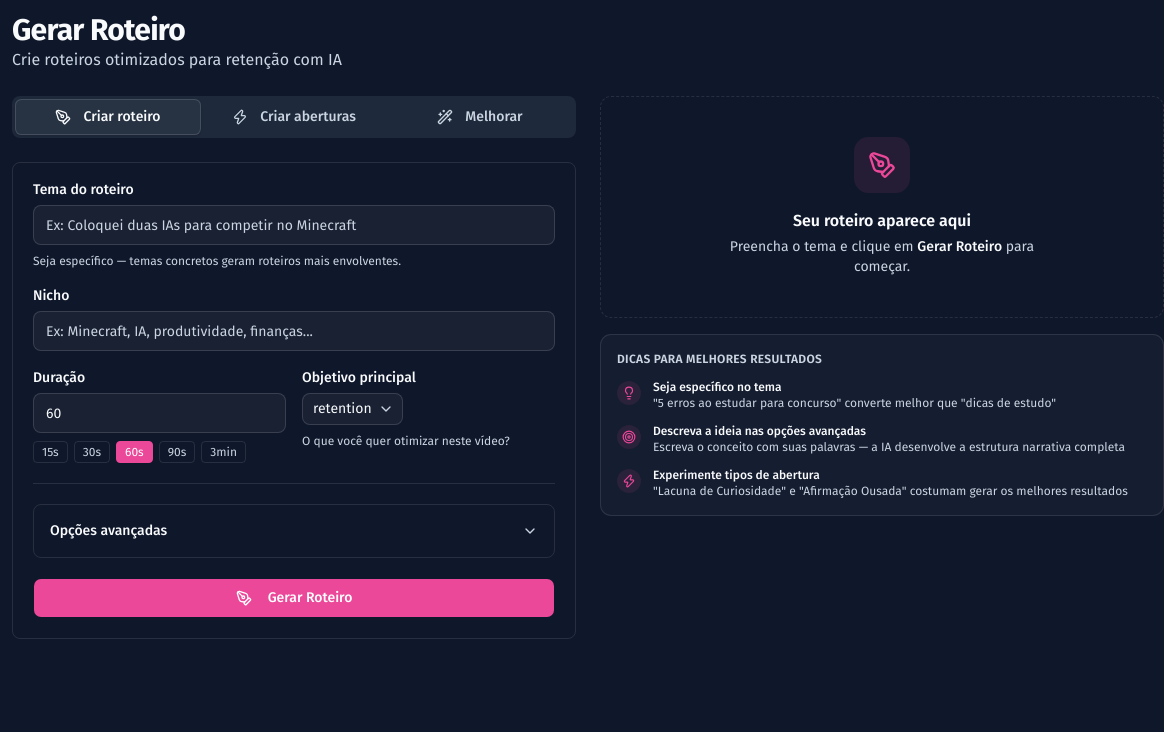
Generate Page — tratamento de erros › 17. exibe mensagem de erro quando API falha
Type "Teste erro" into the field labelled "Tema do roteiro" at point(294, 225), box [33, 205, 555, 245]
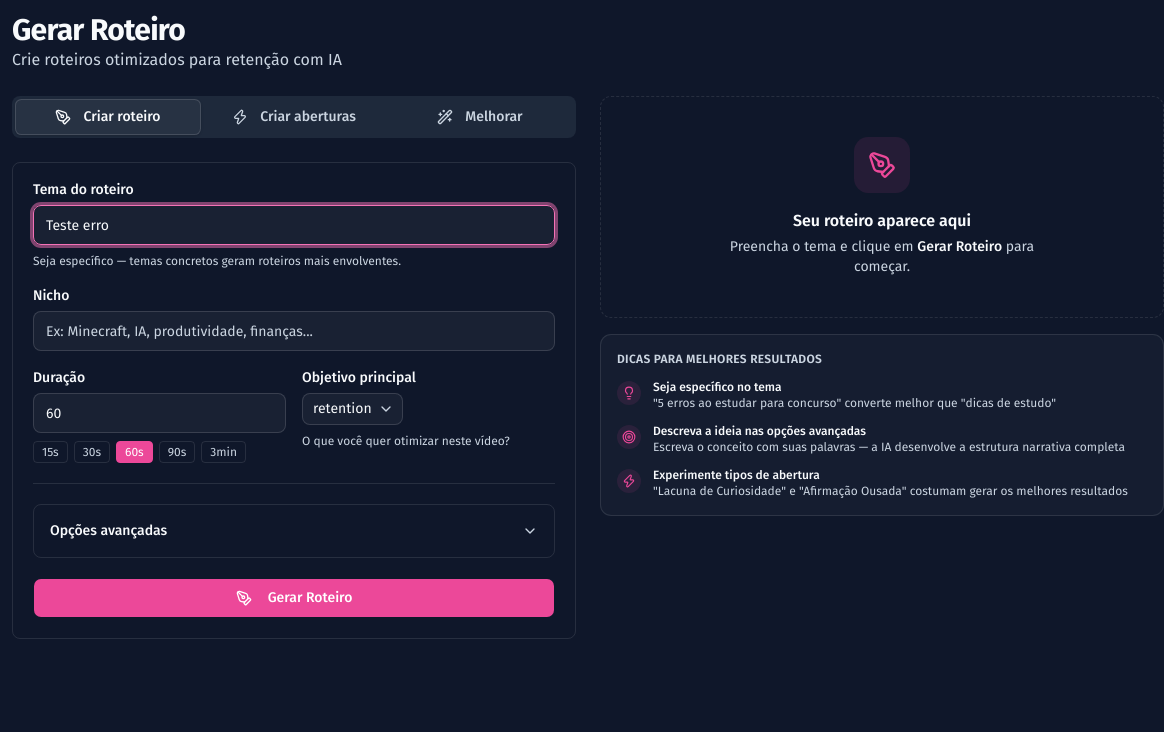
Type "Tech" into the field labelled "Nicho" at point(294, 331), box [33, 311, 555, 351]
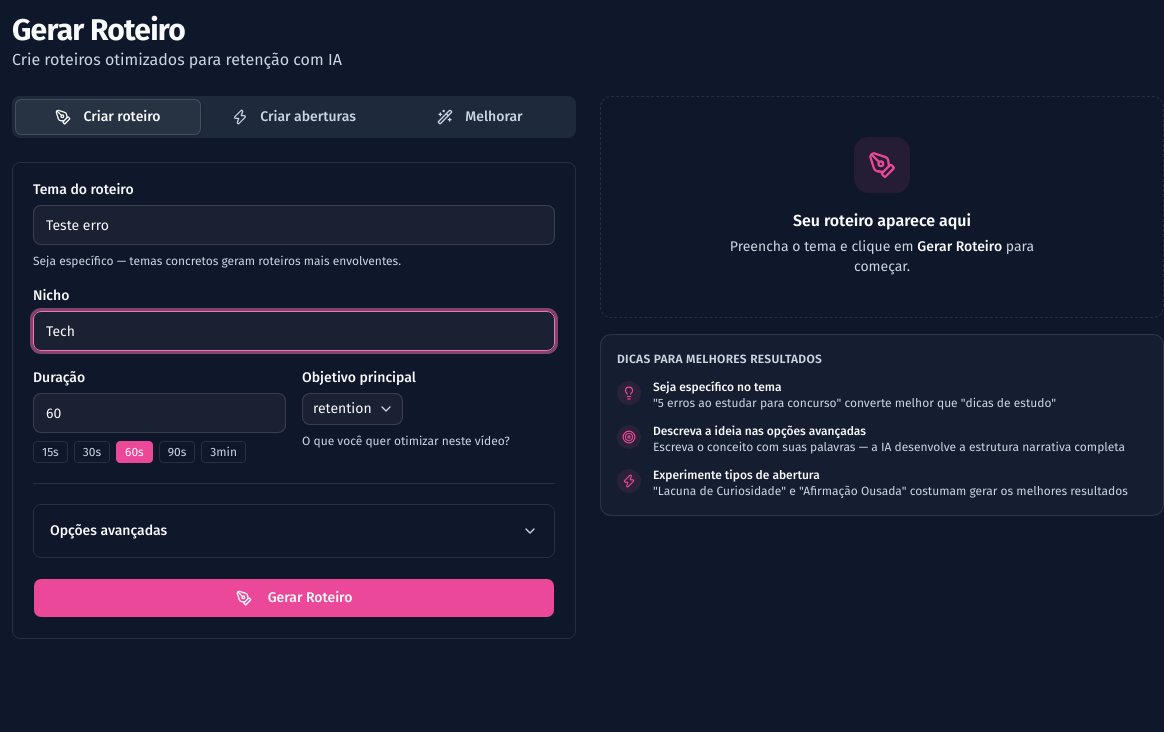
Click the button with test id "gen-submit-btn" at point(294, 598), box [33, 578, 555, 618]
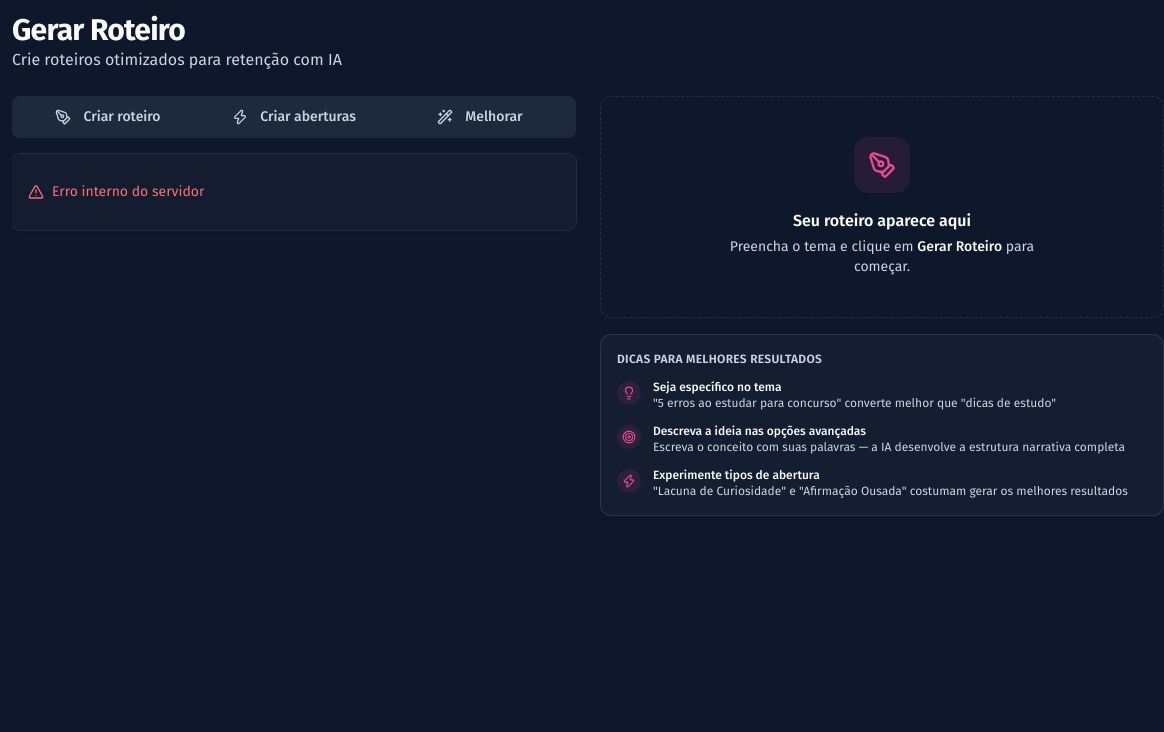
Now the element showing "Erro interno do servidor" is shown, box [12, 154, 576, 230]
